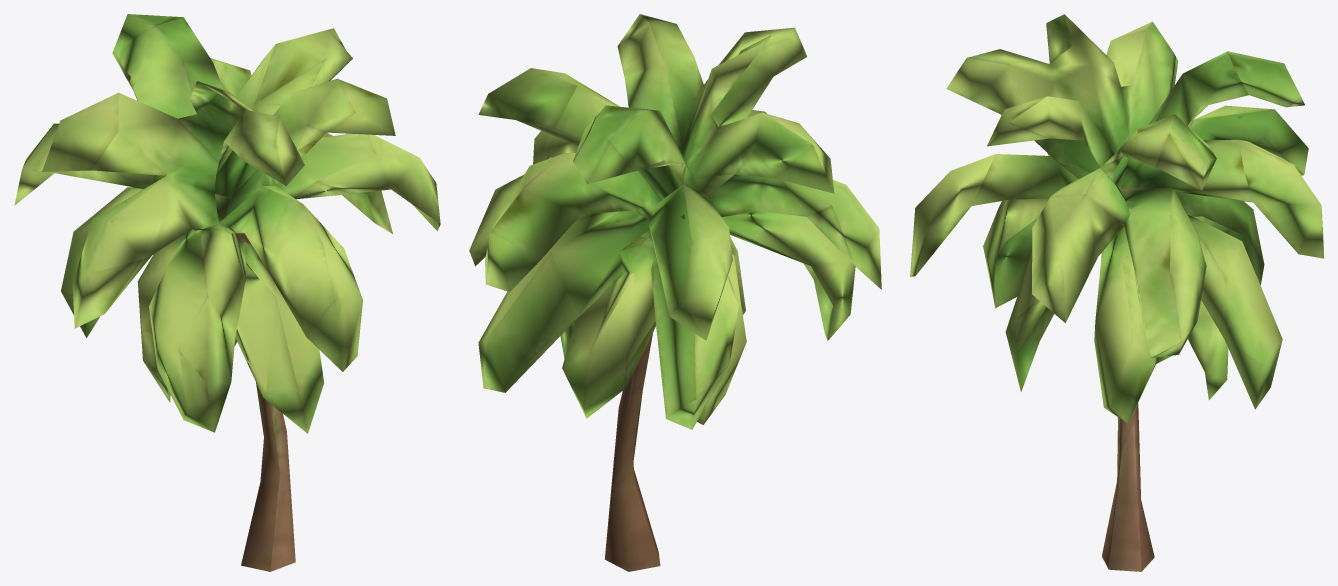
Rendered from palm_c_far.glb.
The picture shows the model from 3 angles, left to right: view 1: azimuth 30°, elevation 25°; view 2: azimuth 150°, elevation 25°; view 3: azimuth 270°, elevation 25°; orthographic projection. The views are drawn at different scales.
Visible parts, largest first — view 1: body; view 2: body; view 3: body.
Boxes of the visible parts, x1,y1,x2,y2 form: body: (14,14,440,571); body: (469,14,881,571); body: (910,14,1323,571).
Size of the model in its own units: 3.2 by 4.5 by 3.38.
Materials: 2 (2 with a texture image).
